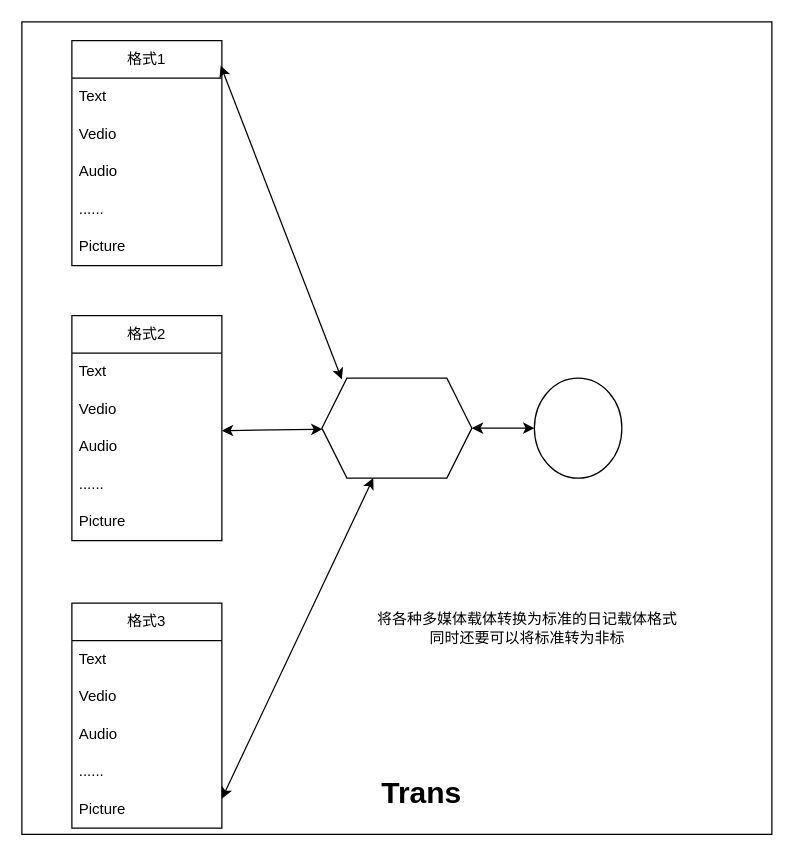
Some shapes in this 794 by 856 pixel diagram are drawn without their labels. The centre of each missing label's shape, as x and y in pixels:
"standrad note entity" belongs at pixel 577 427.
"Transform" belongs at pixel 396 427.
